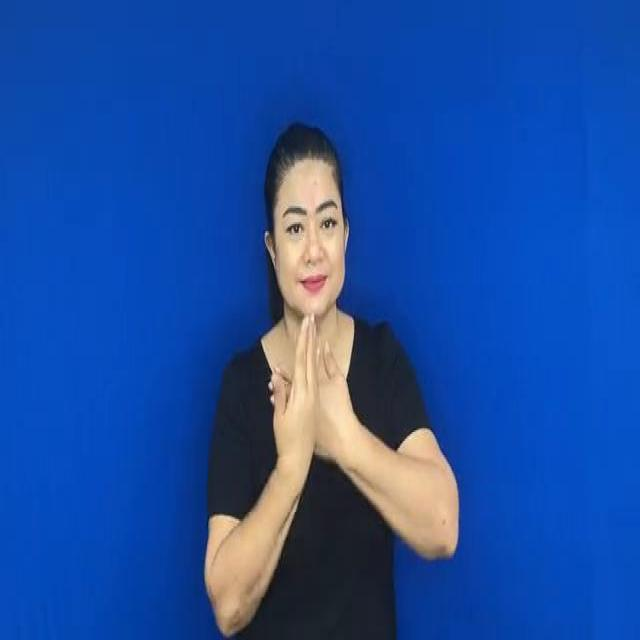bread: (260, 316, 358, 498)
